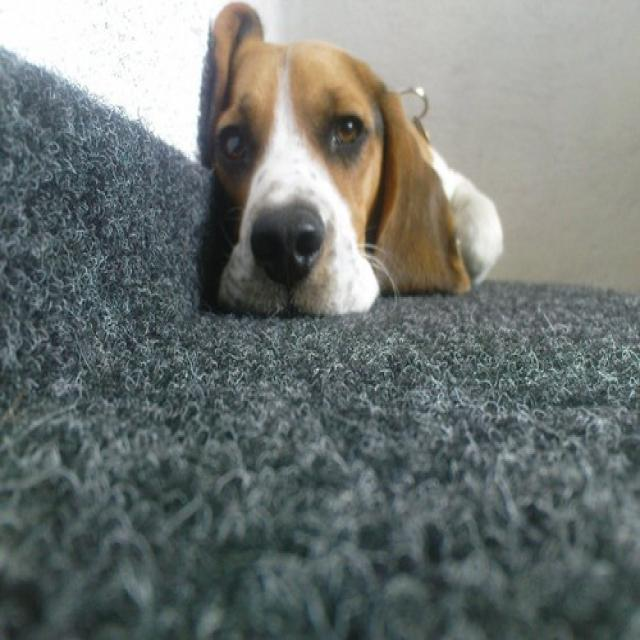dog-beagle: (184, 2, 516, 326)
